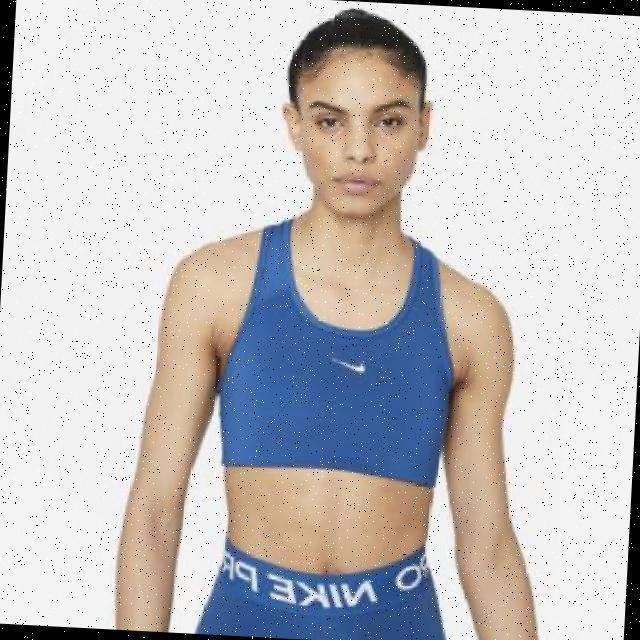Nike: (334, 357, 369, 372)
